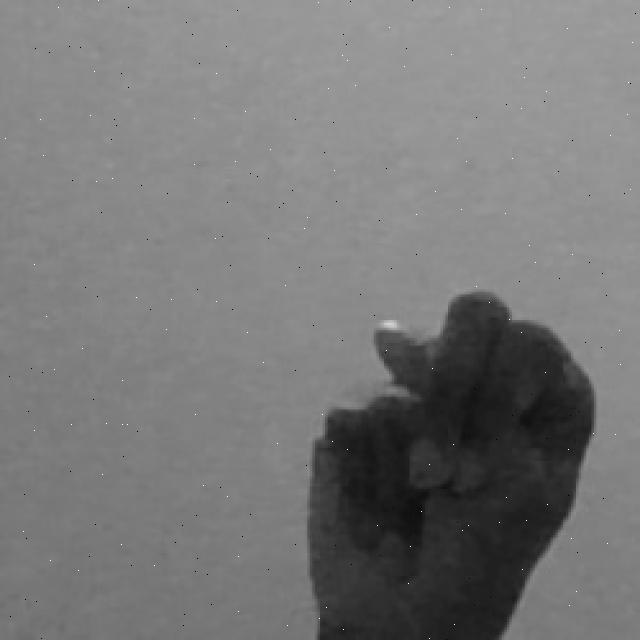N: (302, 286, 604, 640)
